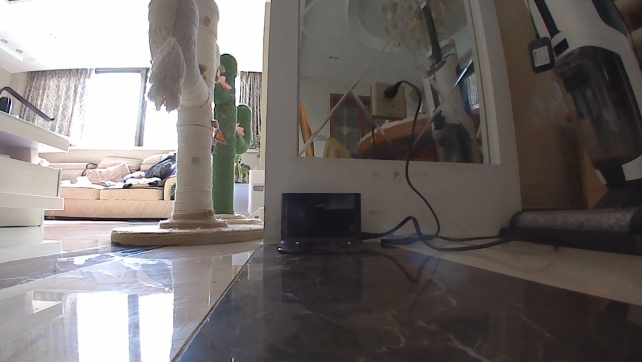charger: (273, 189, 370, 257)
sofa: (34, 139, 187, 221)
wire: (359, 79, 561, 253)
